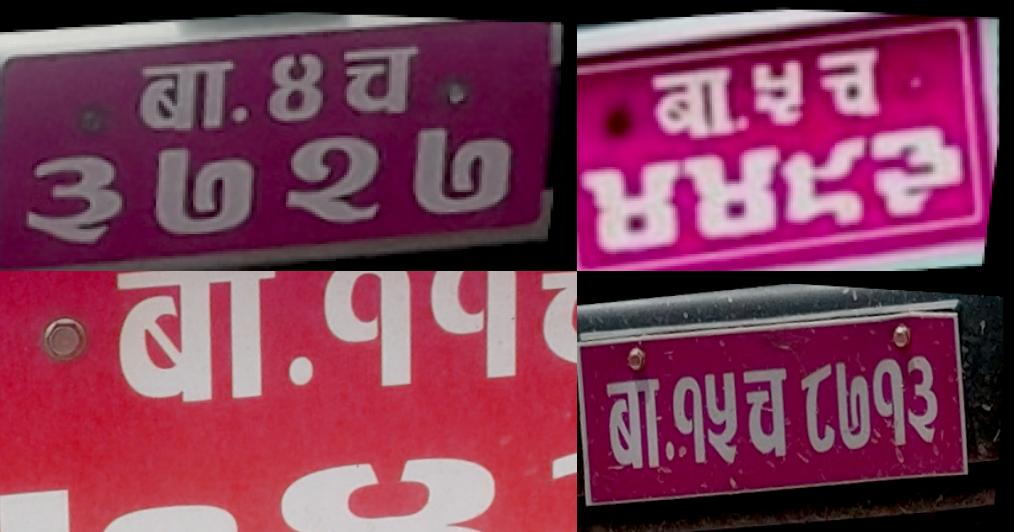1: (293, 271, 452, 407), (410, 271, 552, 392), (665, 362, 719, 474), (866, 346, 918, 454)
2: (274, 119, 405, 239)
3: (9, 135, 146, 253), (862, 112, 976, 210), (901, 342, 951, 448)
4: (244, 419, 542, 532), (577, 151, 699, 257), (682, 138, 796, 245), (257, 40, 338, 133)
5: (698, 358, 755, 472), (744, 51, 818, 131)
7: (0, 440, 285, 532), (140, 130, 282, 250), (395, 103, 537, 221), (829, 347, 882, 454)
8: (791, 350, 847, 460)
9: (780, 127, 880, 225)
ba: (92, 271, 310, 432), (121, 40, 258, 143), (596, 366, 678, 483), (646, 62, 749, 143)
cha: (326, 28, 433, 123), (736, 356, 802, 468), (512, 271, 577, 384), (810, 40, 897, 120)
